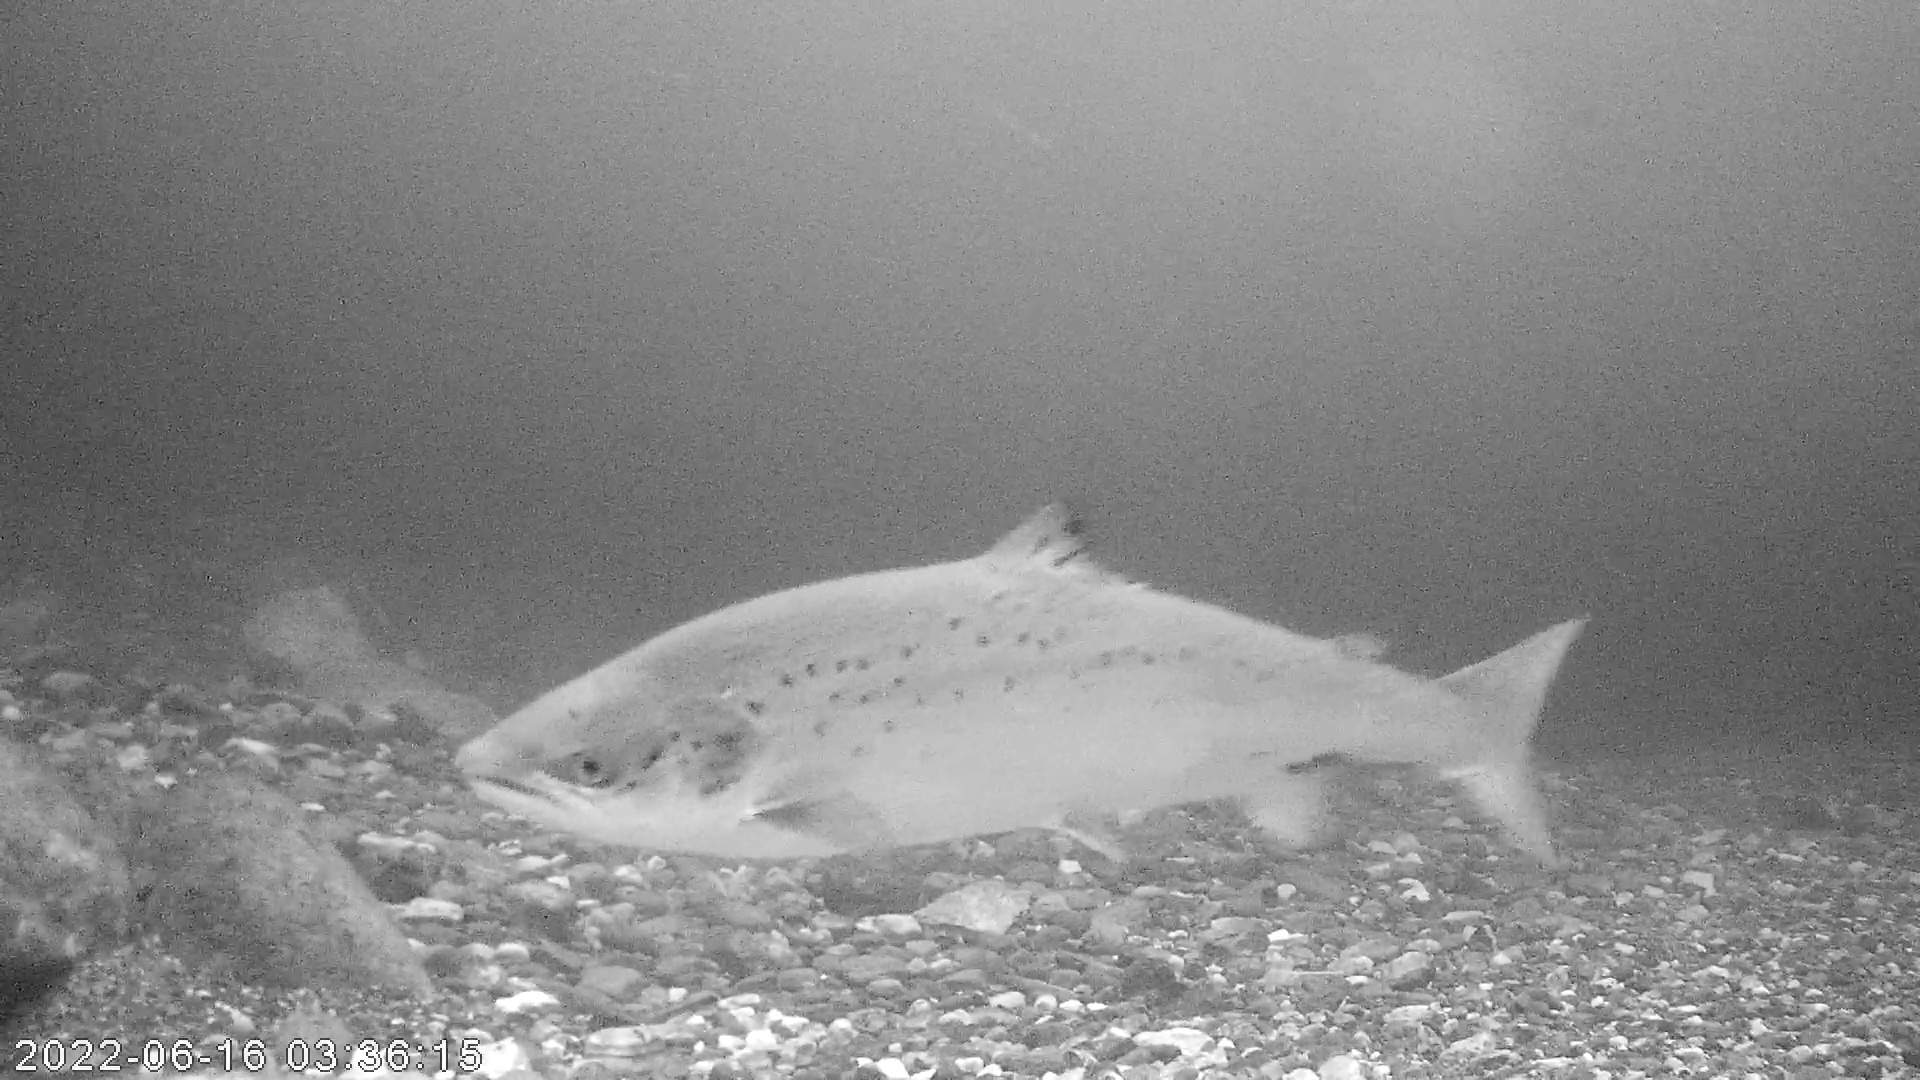salmon: (450, 496, 1589, 869)
